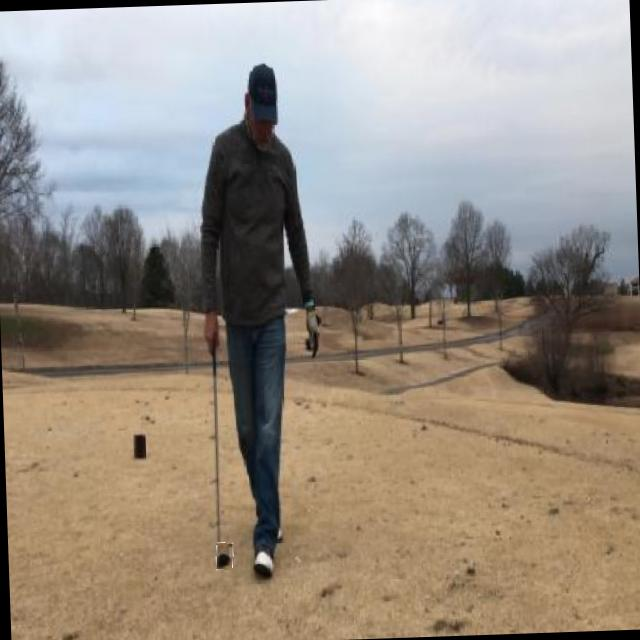club head: (215, 542, 232, 570)
